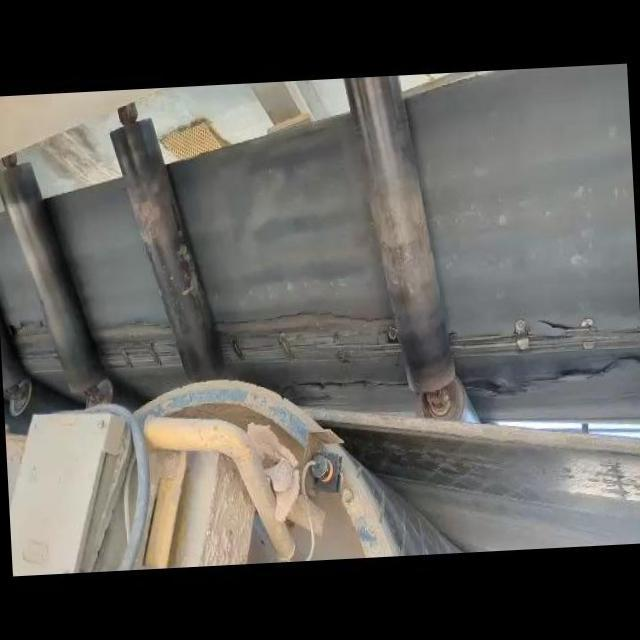Tear: (440, 308, 640, 401), (207, 307, 403, 364), (76, 317, 185, 372), (4, 311, 62, 370), (276, 375, 416, 395)
